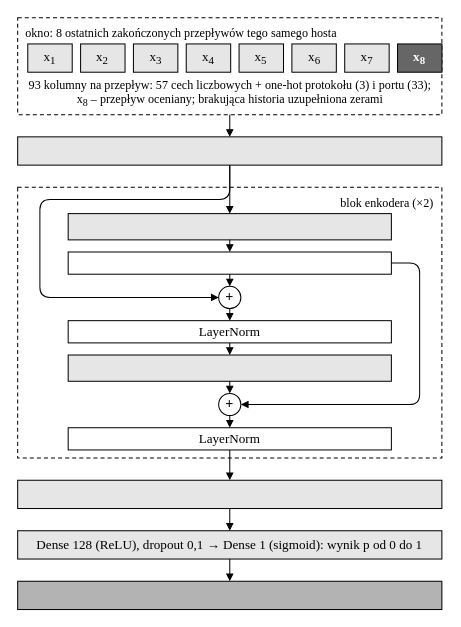
Some shapes in this 461 by 627 pixel diagram are drawn without their labels. Each missing label, with the centre of its shape:
alarm, gdy p > próg (próg z walidacji: ok. 1% FPR): pixel 229 595
Dense 128 (ReLU) → Dense 64 (ReLU), dropout 0,1: pixel 229 367
dropout 0,1: pixel 229 262
Głowica : wektor ostatniego przepływu x 8 (Last Token): pixel 229 494
Kodowanie wejścia : Dense 64 bez biasu (8 wektorów po 64): pixel 229 150
uwaga wielogłowicowa (2 głowice po 128 wymiarów): pixel 229 226
